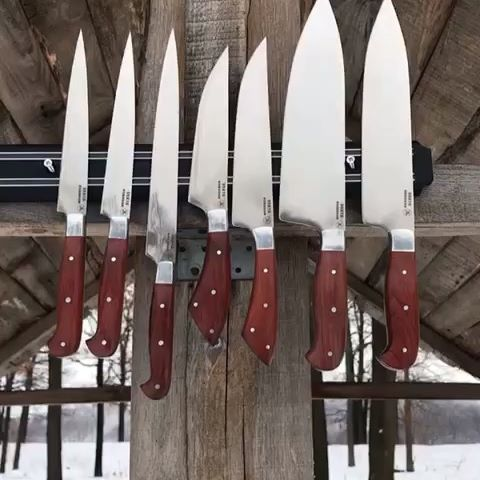knife: (279, 1, 346, 370), (361, 1, 419, 369), (86, 31, 135, 357), (232, 36, 278, 366), (140, 27, 179, 400), (46, 28, 89, 357), (188, 45, 229, 346)
